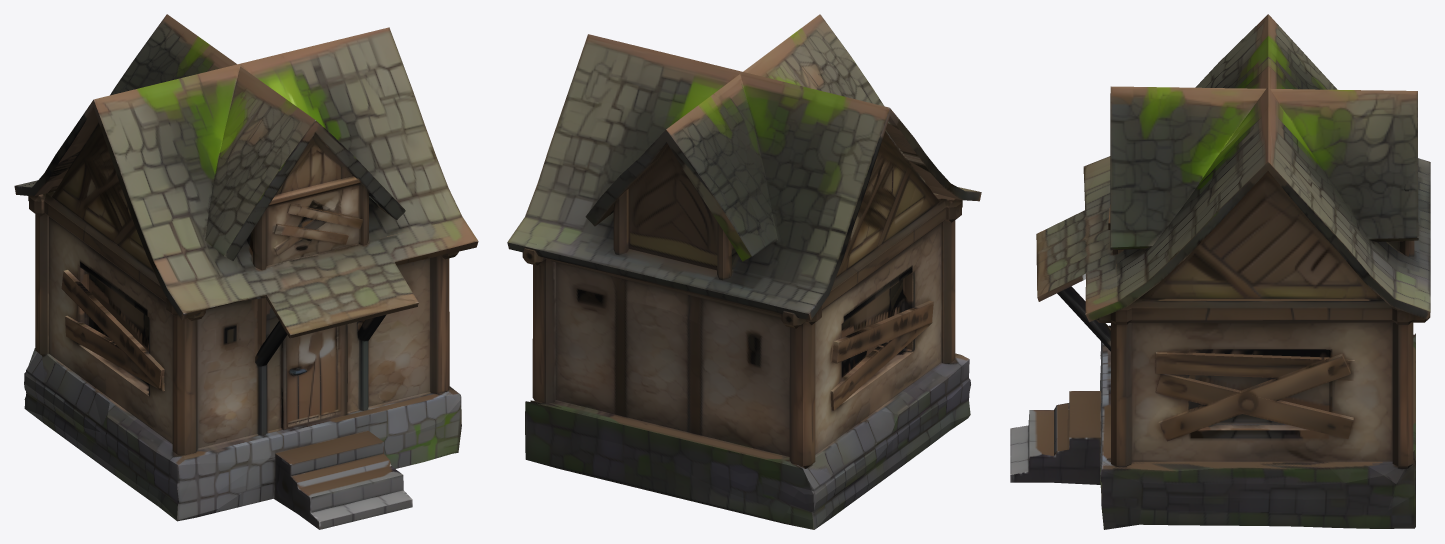
File: VillageHouse_Final.fbx
3 views of the same model, side by side, from view 1: azimuth 30°, elevation 25°; view 2: azimuth 150°, elevation 25°; view 3: azimuth 270°, elevation 25° (orthographic). The views are drawn at different scales.
Parts seen in each view (by area): view 1: VillageHouse; view 2: VillageHouse; view 3: VillageHouse.
Part boxes in pixels (x1,y1,x2,y2): VillageHouse: (14, 14, 478, 529); VillageHouse: (507, 14, 981, 529); VillageHouse: (1010, 14, 1430, 529).
Bounding box in the file's own units: 634 × 749 × 762.
1 material, 1 textured.
